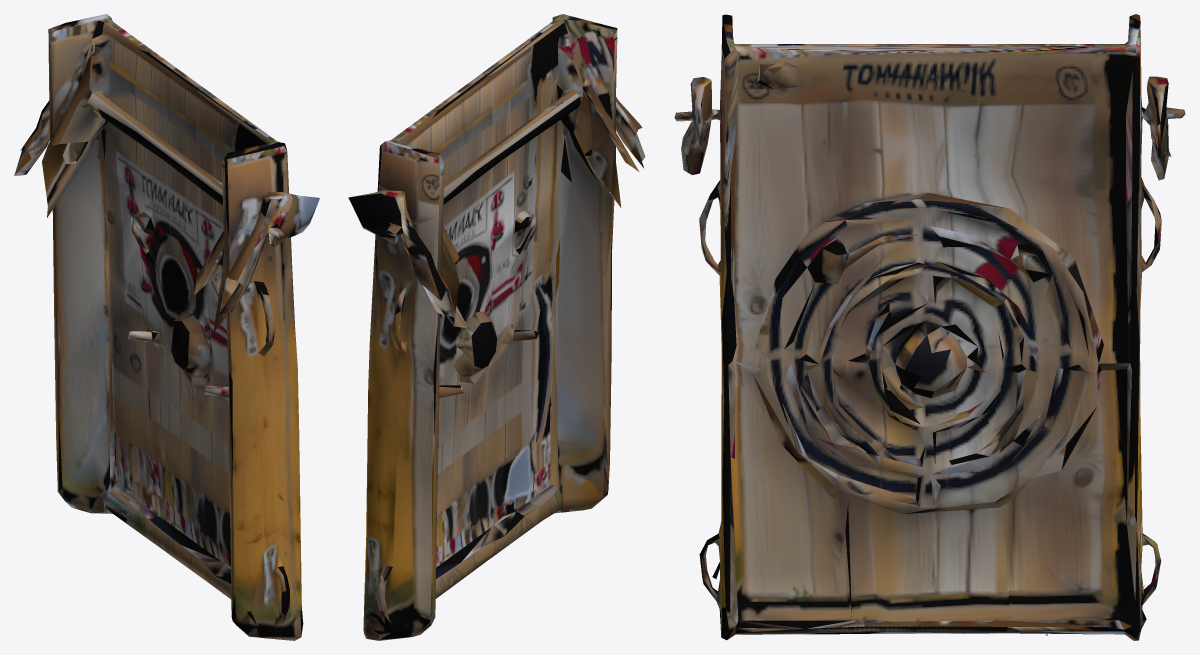
Rendered from CentroHachasMadera.obj.
3 views of the same model, side by side, from view 1: azimuth 30°, elevation 25°; view 2: azimuth 150°, elevation 25°; view 3: azimuth 270°, elevation 25° (orthographic). The views are drawn at different scales.
Visible parts, largest first — view 1: tripo_node_931cdd4a-67b7-42dc-844c-93e55d4b942a; view 2: tripo_node_931cdd4a-67b7-42dc-844c-93e55d4b942a; view 3: tripo_node_931cdd4a-67b7-42dc-844c-93e55d4b942a.
Boxes of the visible parts, x1=… form: tripo_node_931cdd4a-67b7-42dc-844c-93e55d4b942a: x1=14, y1=14, x2=319, y2=640; tripo_node_931cdd4a-67b7-42dc-844c-93e55d4b942a: x1=348, y1=14, x2=645, y2=640; tripo_node_931cdd4a-67b7-42dc-844c-93e55d4b942a: x1=674, y1=14, x2=1185, y2=640.
Size of the model in its own units: 0.2422 by 1.05 by 0.8271.
